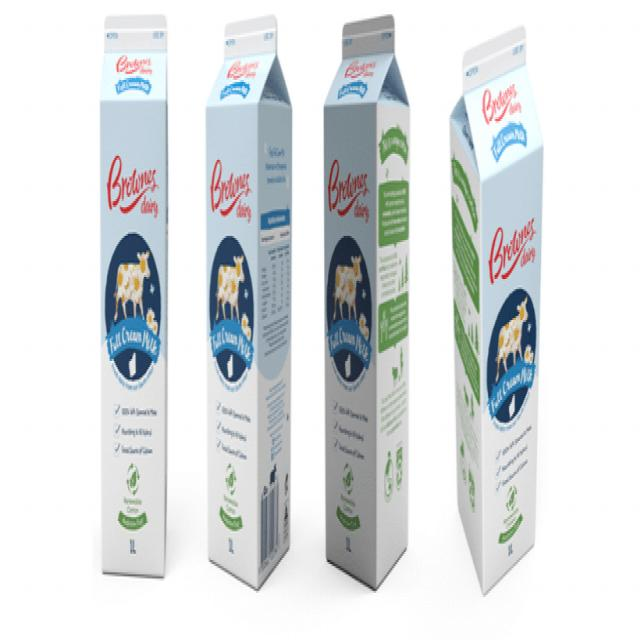non_white_jug: (432, 32, 548, 586), (200, 12, 301, 597), (307, 14, 408, 593), (80, 27, 174, 595)
